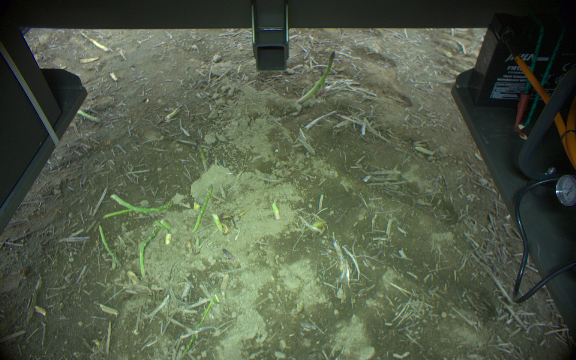aspa: (293, 48, 337, 107), (111, 192, 172, 214), (137, 223, 159, 276), (96, 226, 122, 266), (190, 184, 212, 231), (194, 136, 208, 173), (97, 207, 134, 219), (217, 245, 236, 267), (265, 200, 281, 224), (76, 108, 101, 123), (211, 211, 223, 234)
